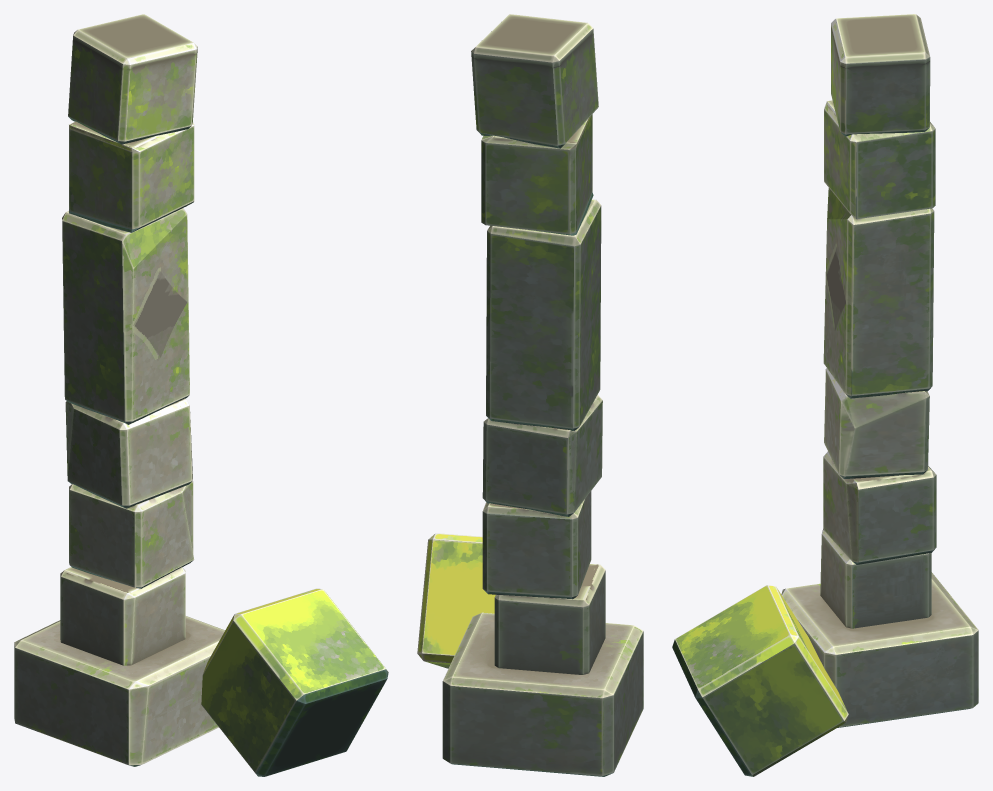
File: stone_pillar2.fbx
3 renders of one model, left to right at view 1: azimuth 30°, elevation 25°; view 2: azimuth 150°, elevation 25°; view 3: azimuth 270°, elevation 25°, orthographic. The views are drawn at different scales.
Parts seen in each view (by area): view 1: stone_pillar2; view 2: stone_pillar2; view 3: stone_pillar2.
Boxes of the visible parts, box(x1,y1,x2,y2) form: stone_pillar2: box(14, 14, 388, 776); stone_pillar2: box(417, 14, 643, 776); stone_pillar2: box(672, 14, 978, 776).
Bounding box in the file's own units: 119 × 307 × 126.
1 material, 1 textured.
